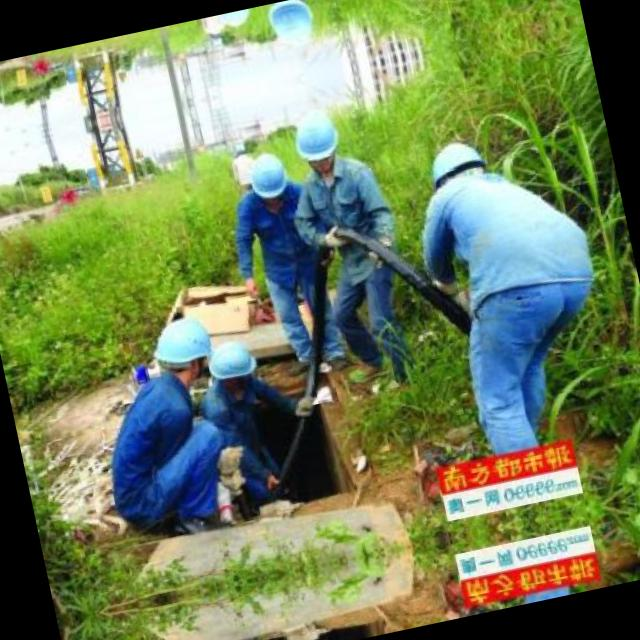helmet: (147, 308, 216, 391), (421, 138, 496, 207), (287, 106, 344, 177), (205, 335, 259, 396), (262, 0, 317, 51), (244, 146, 291, 205), (214, 7, 256, 35)
